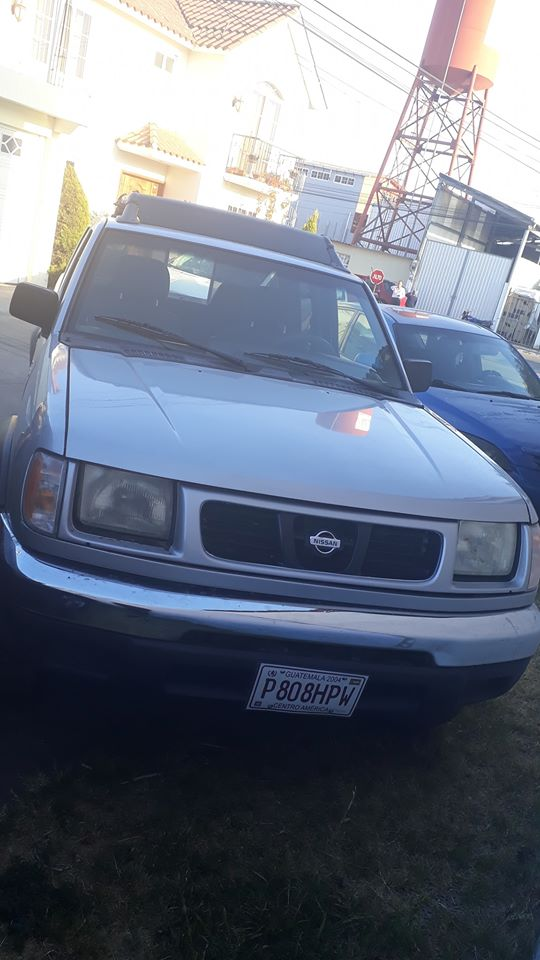pickup: (13, 187, 540, 721)
